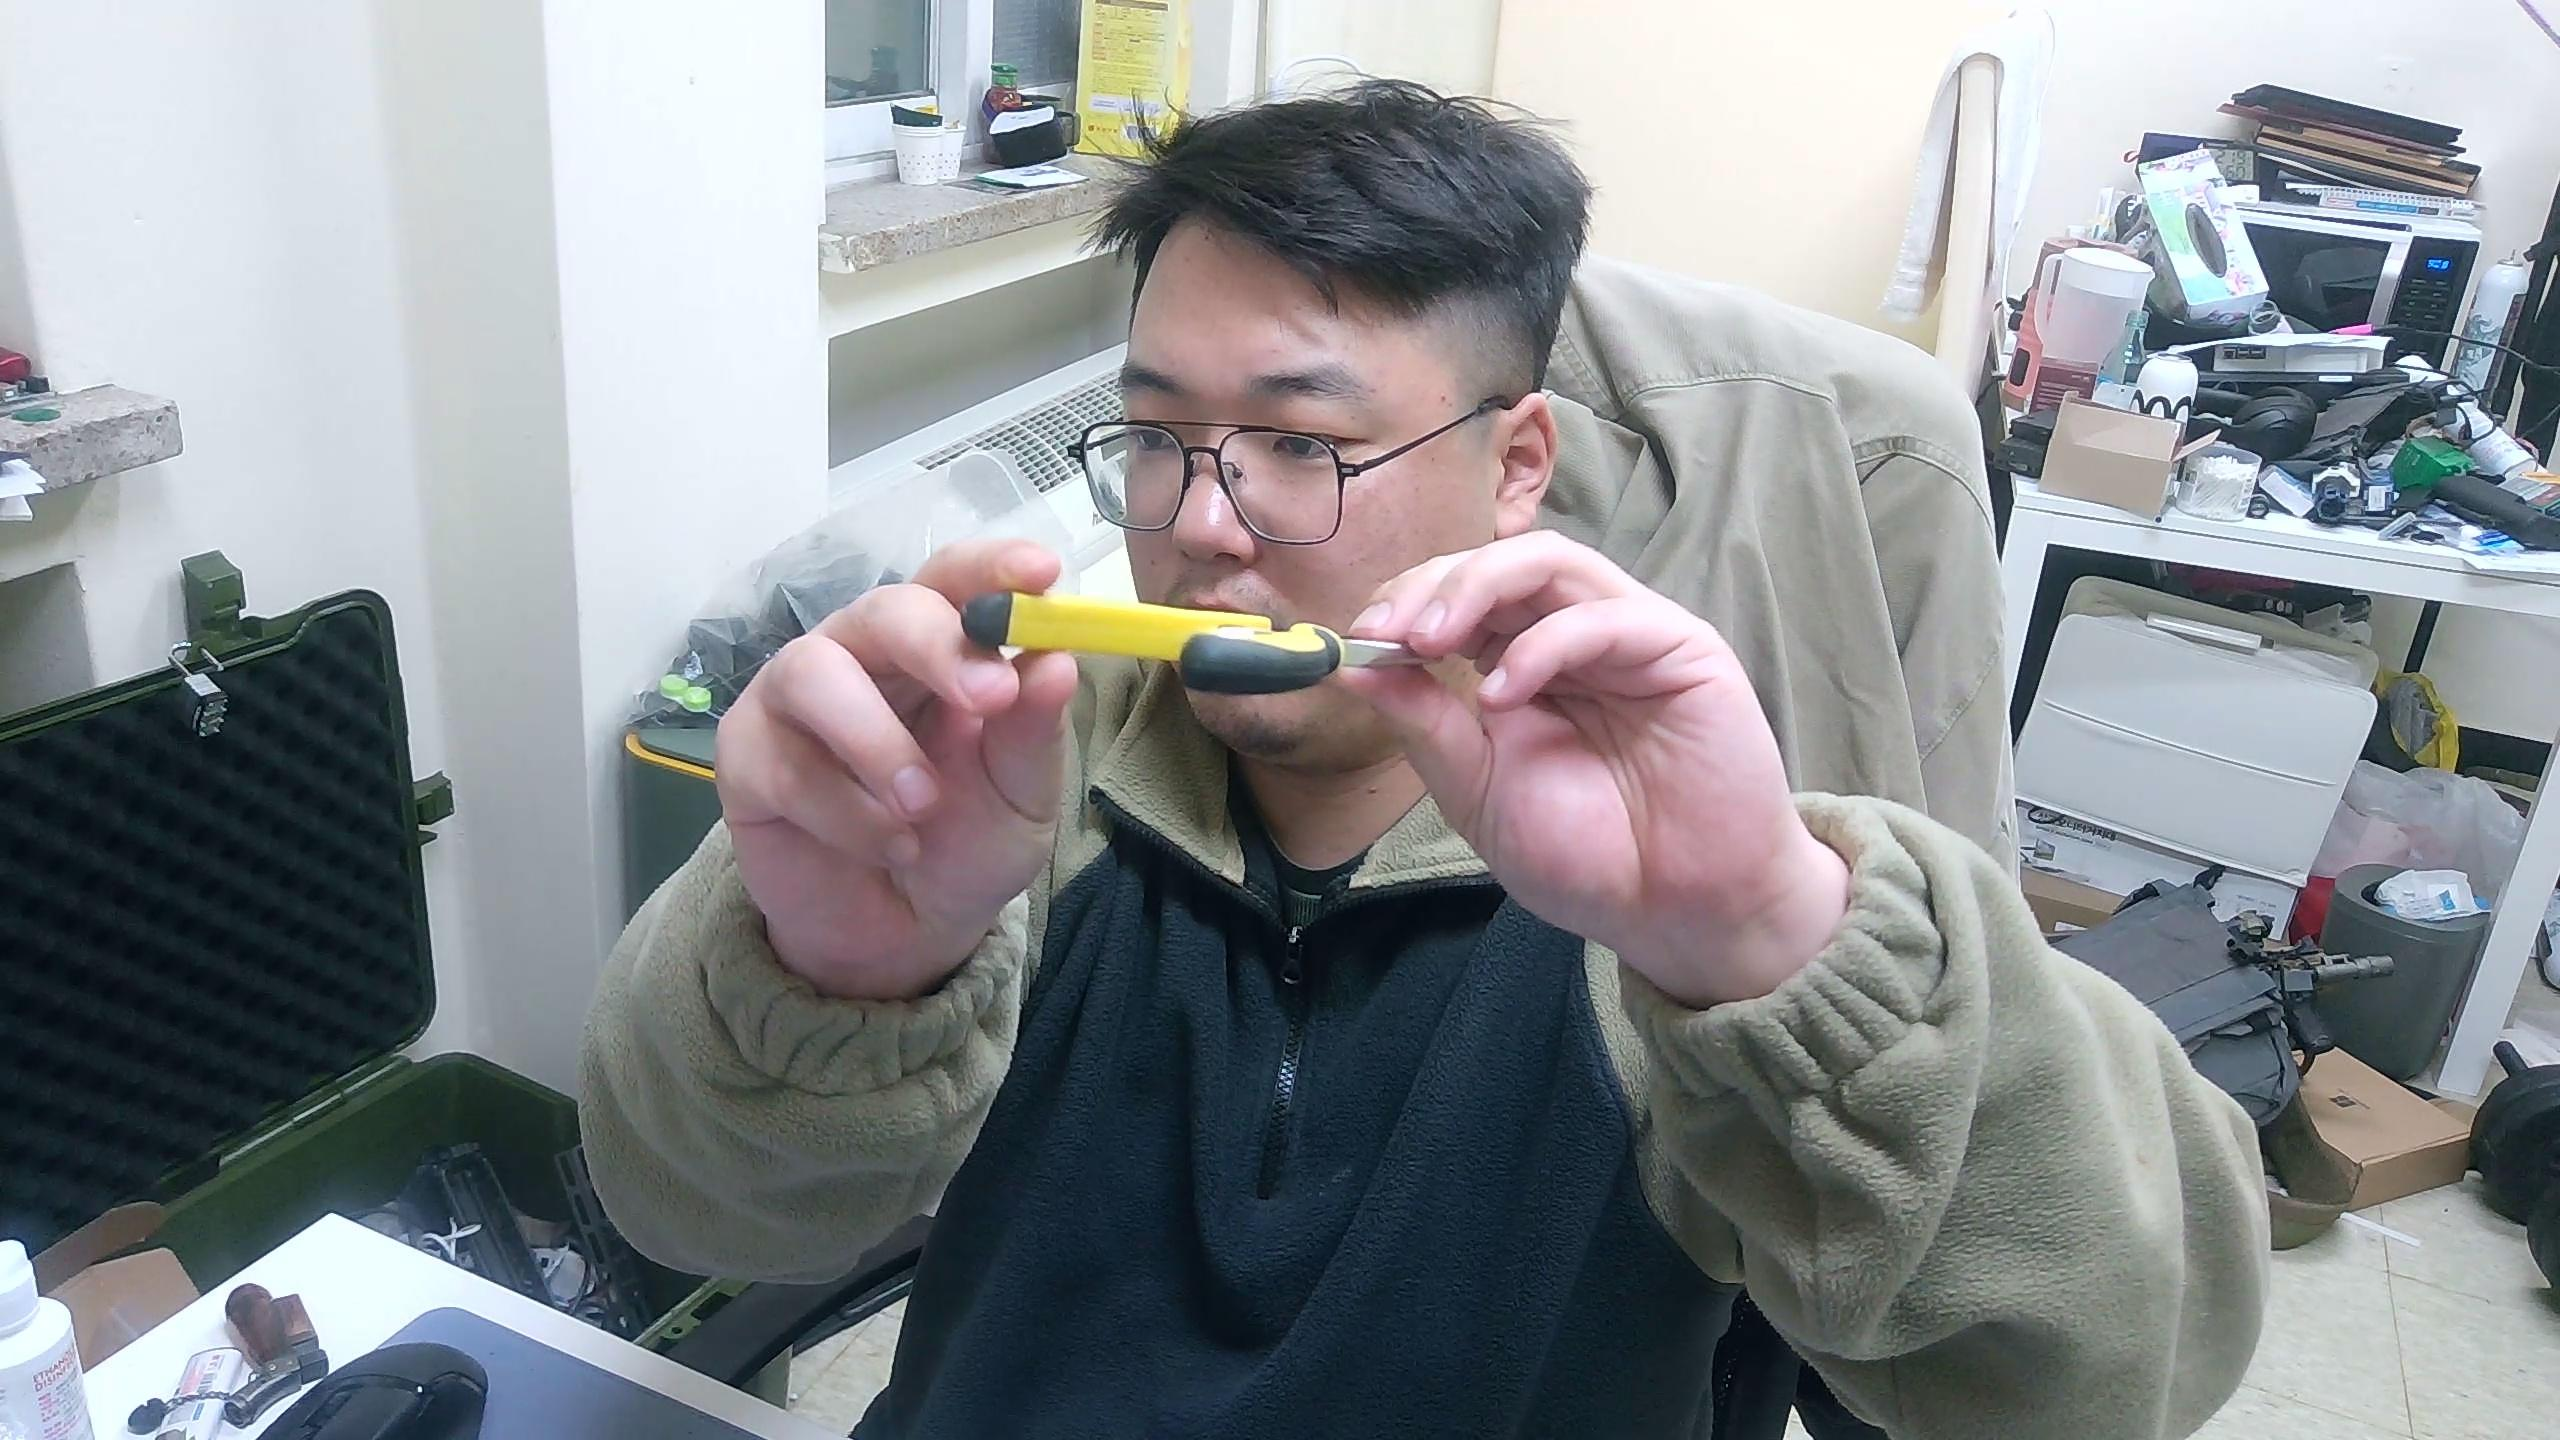earphone: (958, 587, 1422, 700)
